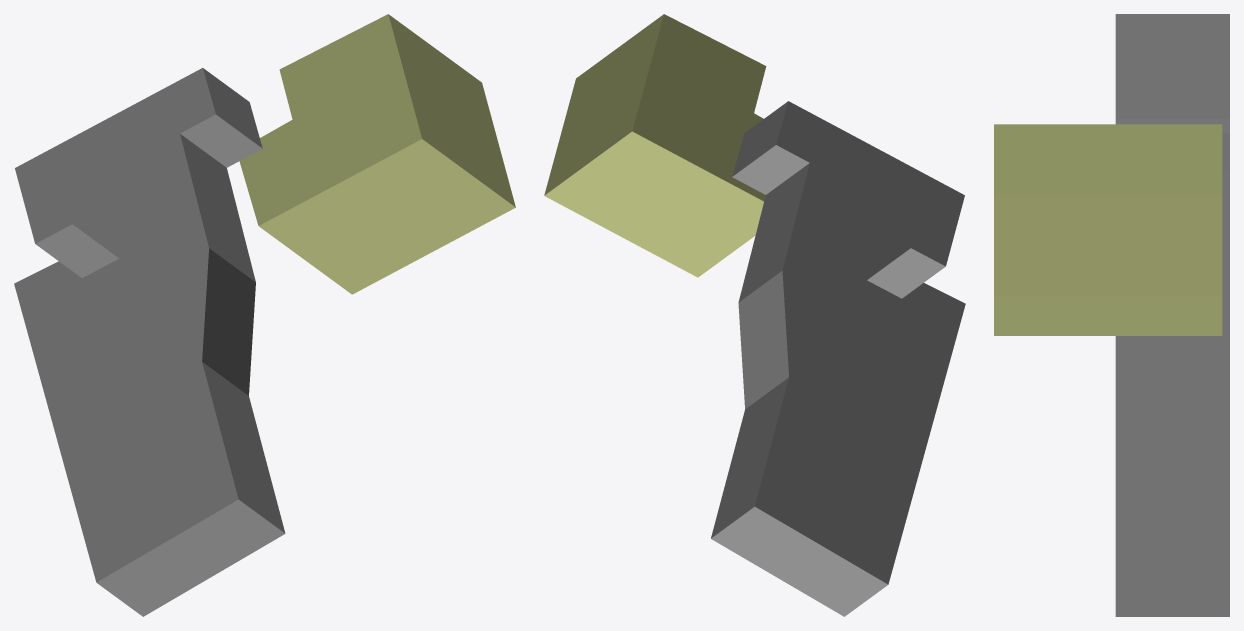
3 views of the same model, side by side, from view 1: azimuth 30°, elevation 25°; view 2: azimuth 150°, elevation 25°; view 3: azimuth 270°, elevation 25° (orthographic). The views are drawn at different scales.
Visible parts, largest first — view 1: 0_1_0_0_1_0_1_3_2_2; view 2: 0_1_0_0_1_0_1_3_2_2; view 3: 0_1_0_0_1_0_1_3_2_2.
Part boxes in pixels (<box>): 0_1_0_0_1_0_1_3_2_2: <box>14,14,515,616</box>; 0_1_0_0_1_0_1_3_2_2: <box>544,14,965,616</box>; 0_1_0_0_1_0_1_3_2_2: <box>994,14,1229,616</box>.
Size of the model in its own units: 14.97 by 17.67 by 6.2.
